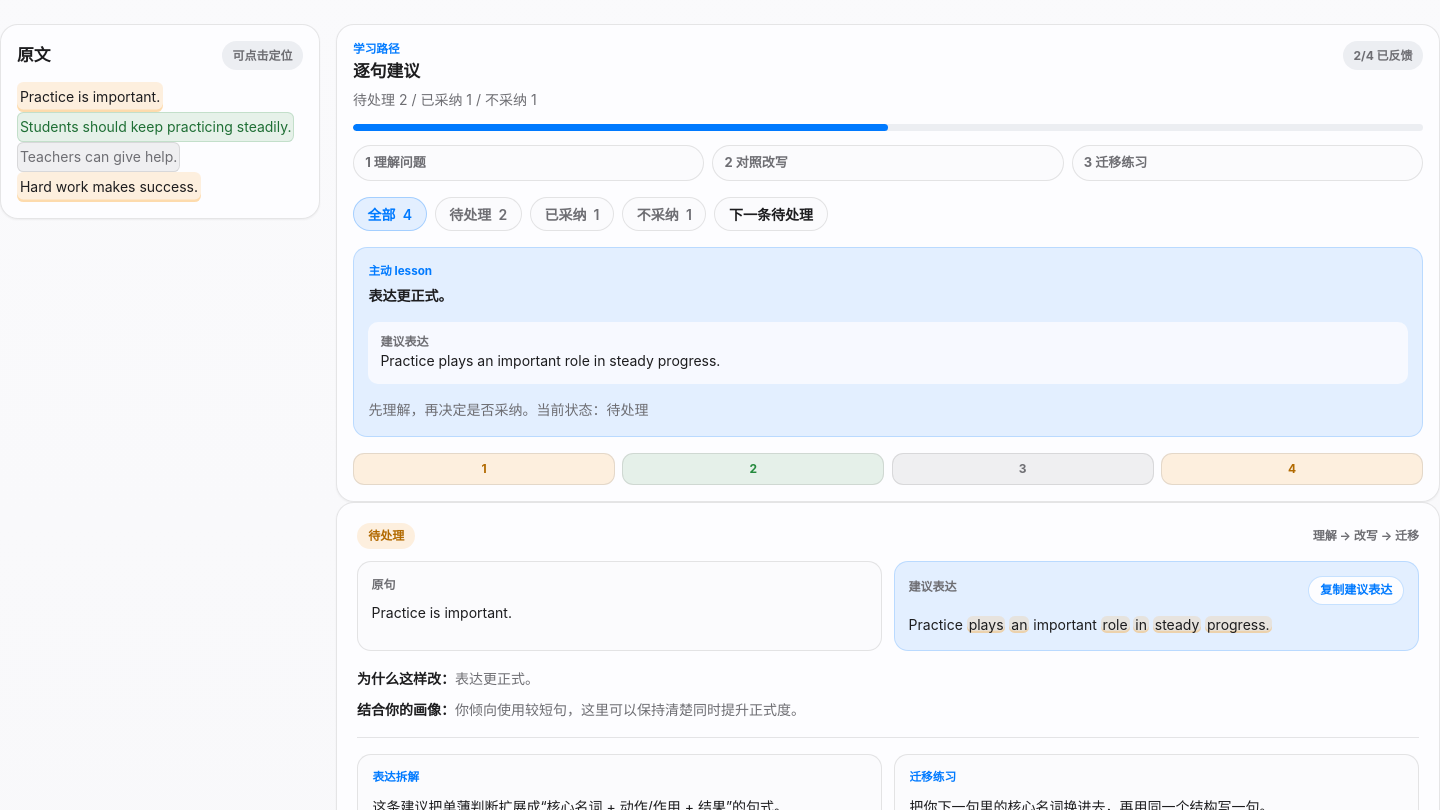
Test: InteractiveEssayReview › jumps through pending suggestions from the review toolbar
The image size is (1440, 810).
Click the button "下一条待处理": click(771, 214) [714,197,828,231]
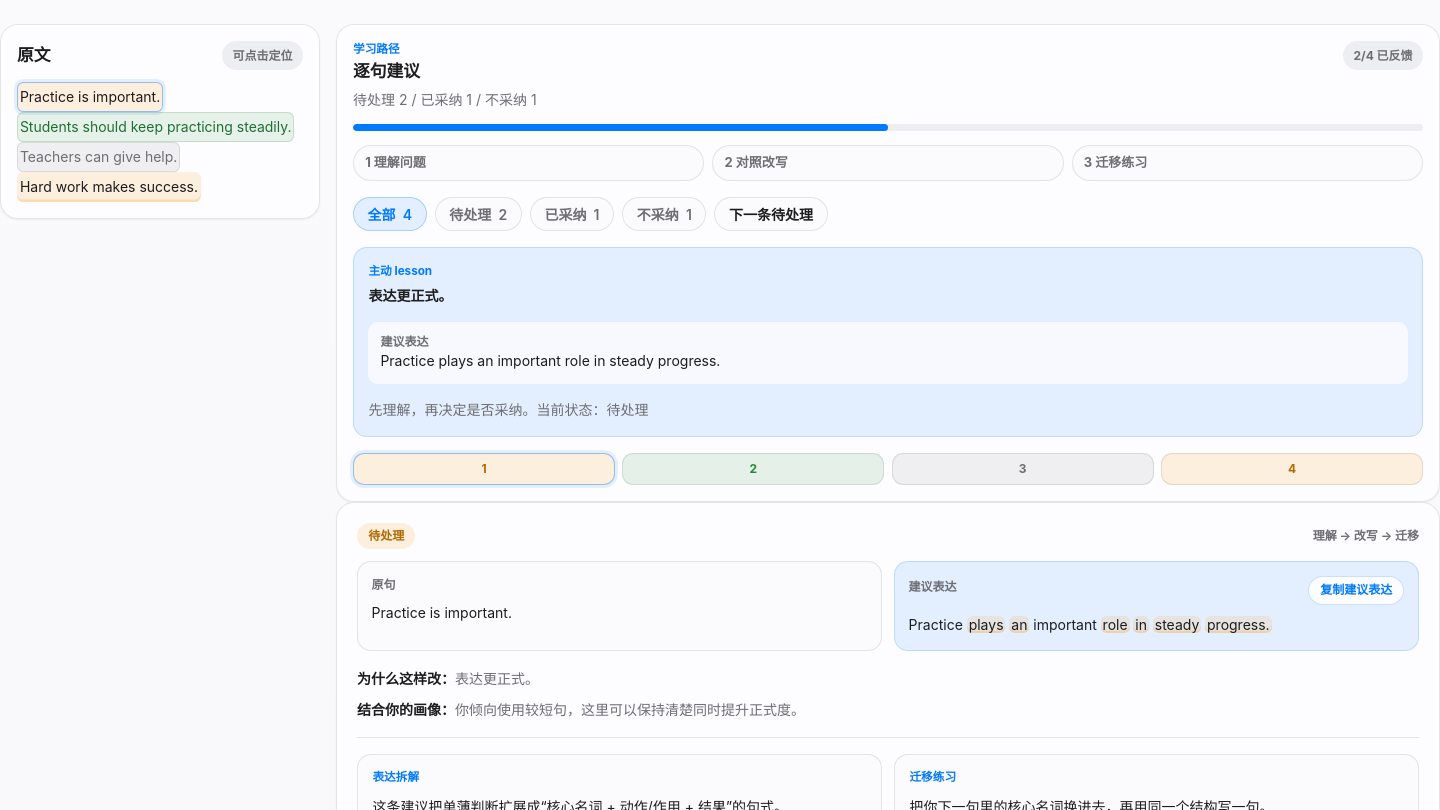
Click the button "下一条待处理": click(771, 214) [714,197,828,231]
(page scrolled)
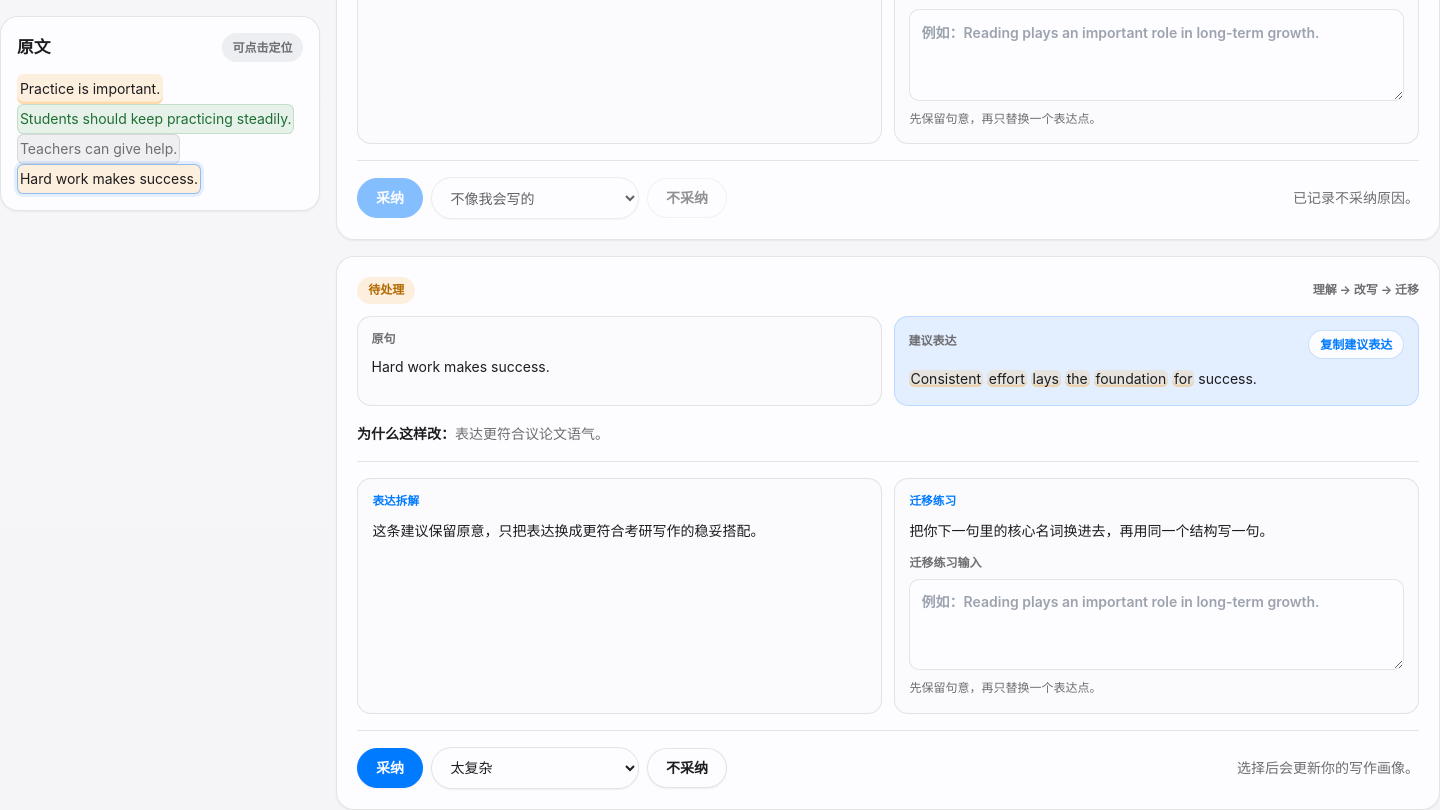
Check: the element with test id "review-suggestion-card-suggestion-4" has class "review-suggestion-active", box [336,256,1439,809]
